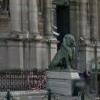Statue: (35, 21, 76, 78)
